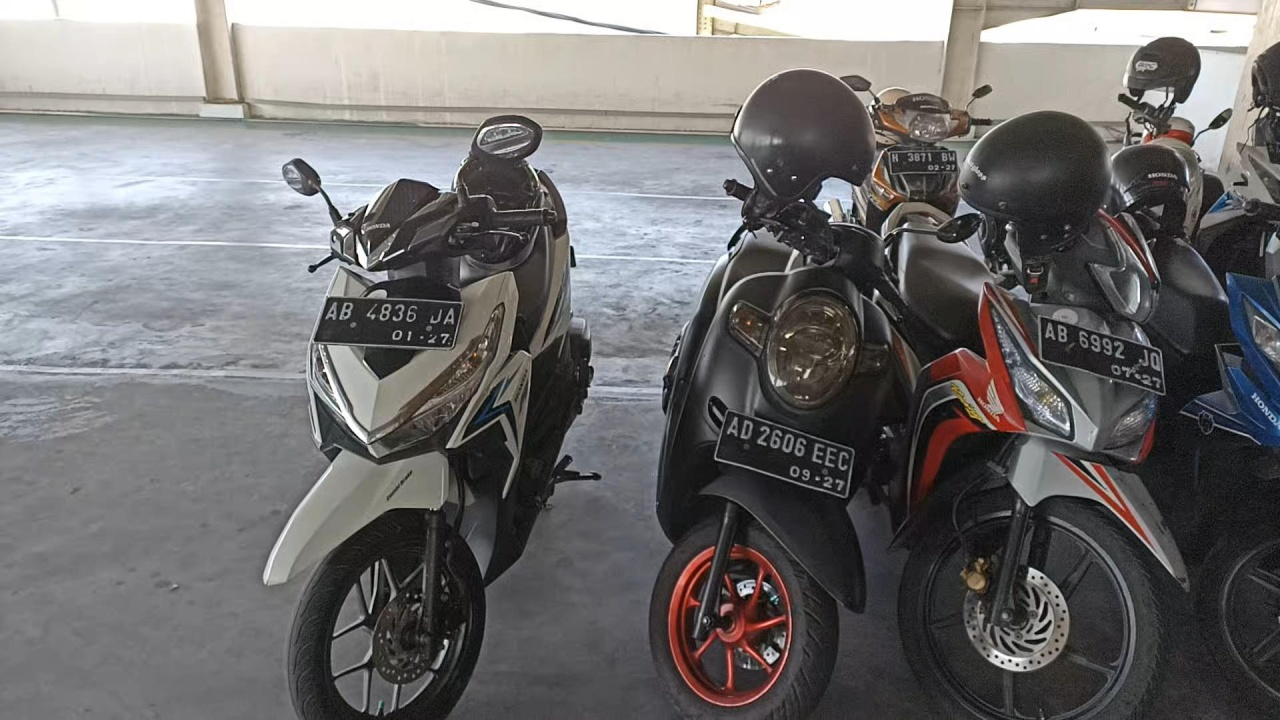plate: (715, 408, 854, 497), (1040, 316, 1165, 395), (311, 297, 465, 348), (890, 149, 959, 174)
